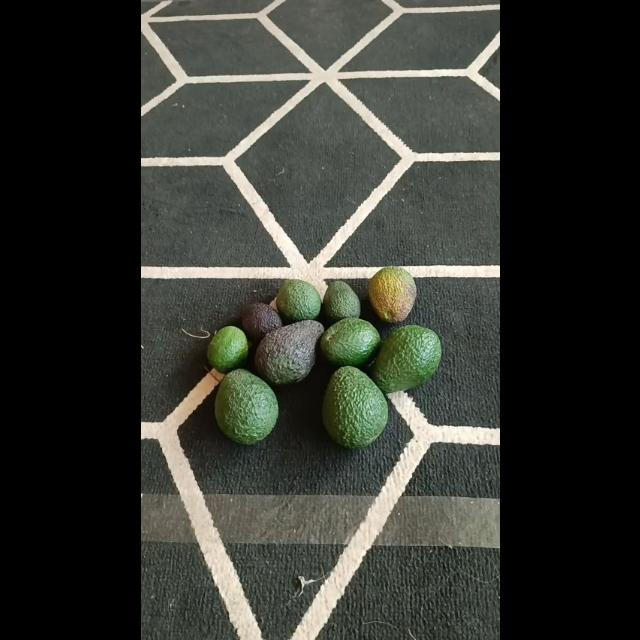Primera: (320, 366, 388, 446), (213, 367, 277, 443), (371, 324, 442, 392), (254, 320, 324, 384)
Segunda: (320, 318, 380, 368), (366, 265, 416, 321), (274, 278, 320, 322)
Tercera: (204, 324, 248, 374), (320, 279, 360, 323), (240, 302, 280, 342)
